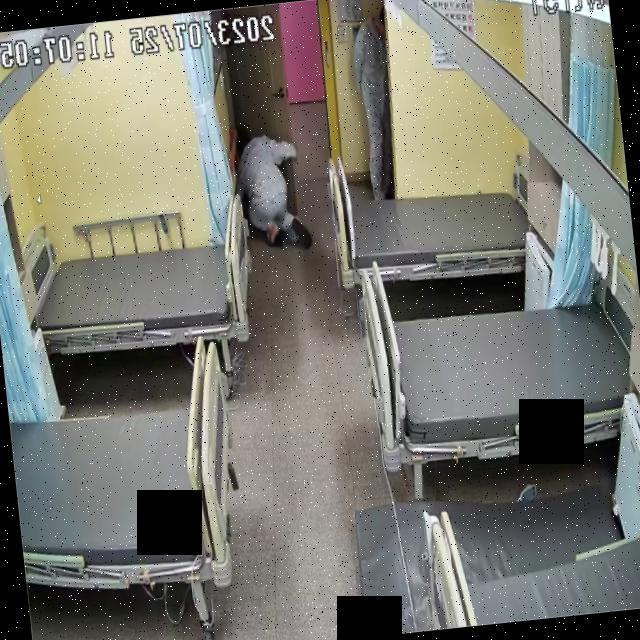bed: (2, 334, 246, 602), (362, 286, 640, 465), (14, 220, 260, 363), (332, 171, 530, 288)
fall: (235, 116, 308, 256)
patient: (346, 0, 401, 199), (233, 117, 306, 256)
